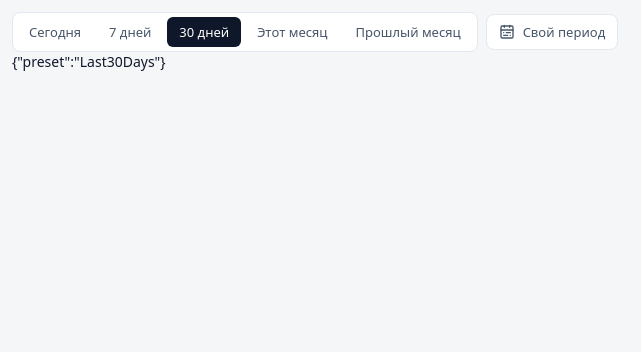
Выбор периода › не применяет диапазон, если дата начала позже даты окончания
Click the button "Свой период" at (552,32), box left=486, top=14, right=618, bottom=50
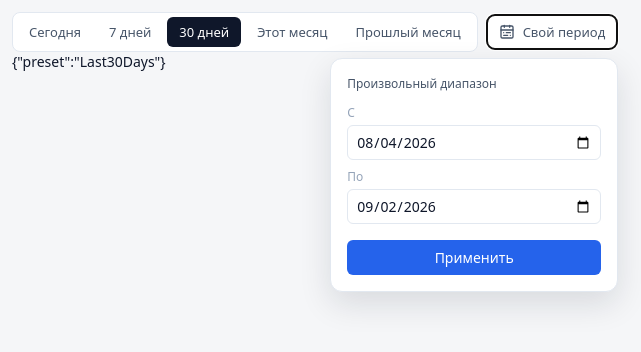
Type "2026-03-31" into the date field labelled "С" at (474,142), box left=347, top=125, right=601, bottom=160
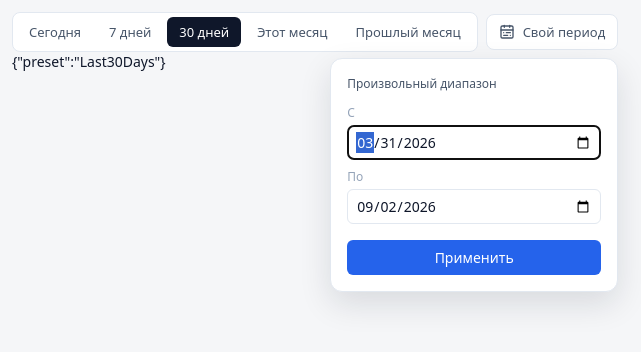
Type "2026-03-01" into the date field labelled "По" at (474,206), box left=347, top=189, right=601, bottom=224
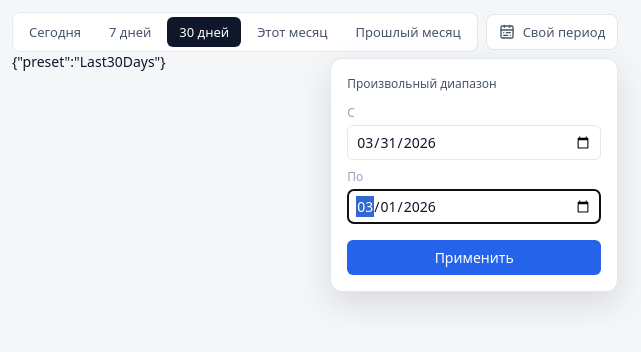
Click the button "Применить" at (474,258), box left=347, top=240, right=601, bottom=275
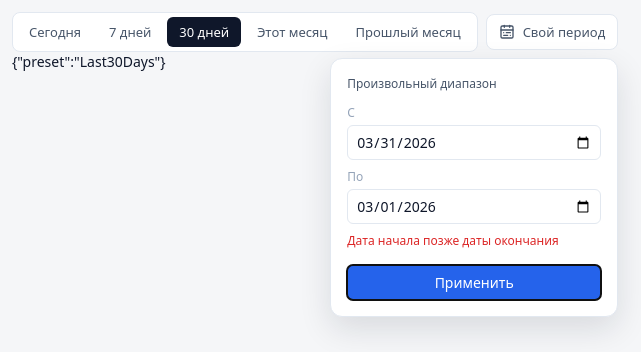
Check: the text with test id "period" shows "\"preset\":\"Last30Days\"", box left=12, top=52, right=166, bottom=71
Check: the text "Дата начала позже даты окончания" is shown, box left=347, top=232, right=559, bottom=249
